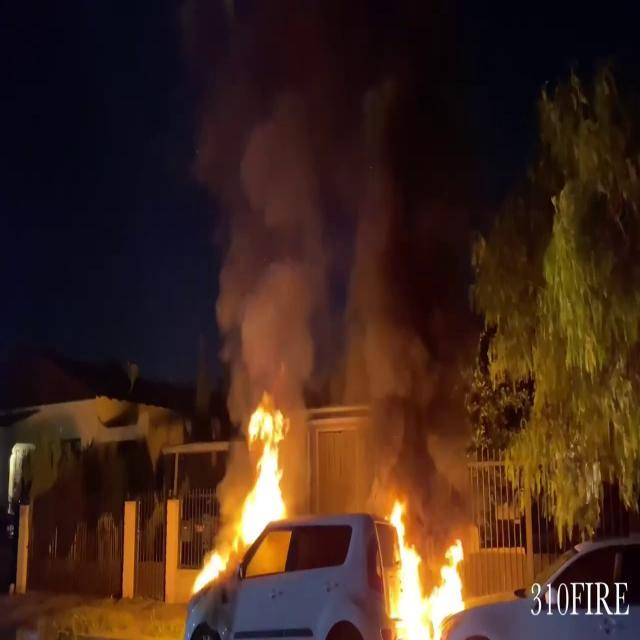Fire: (380, 494, 472, 639), (232, 396, 300, 556), (188, 542, 230, 596)
Smoke: (186, 14, 464, 485)
